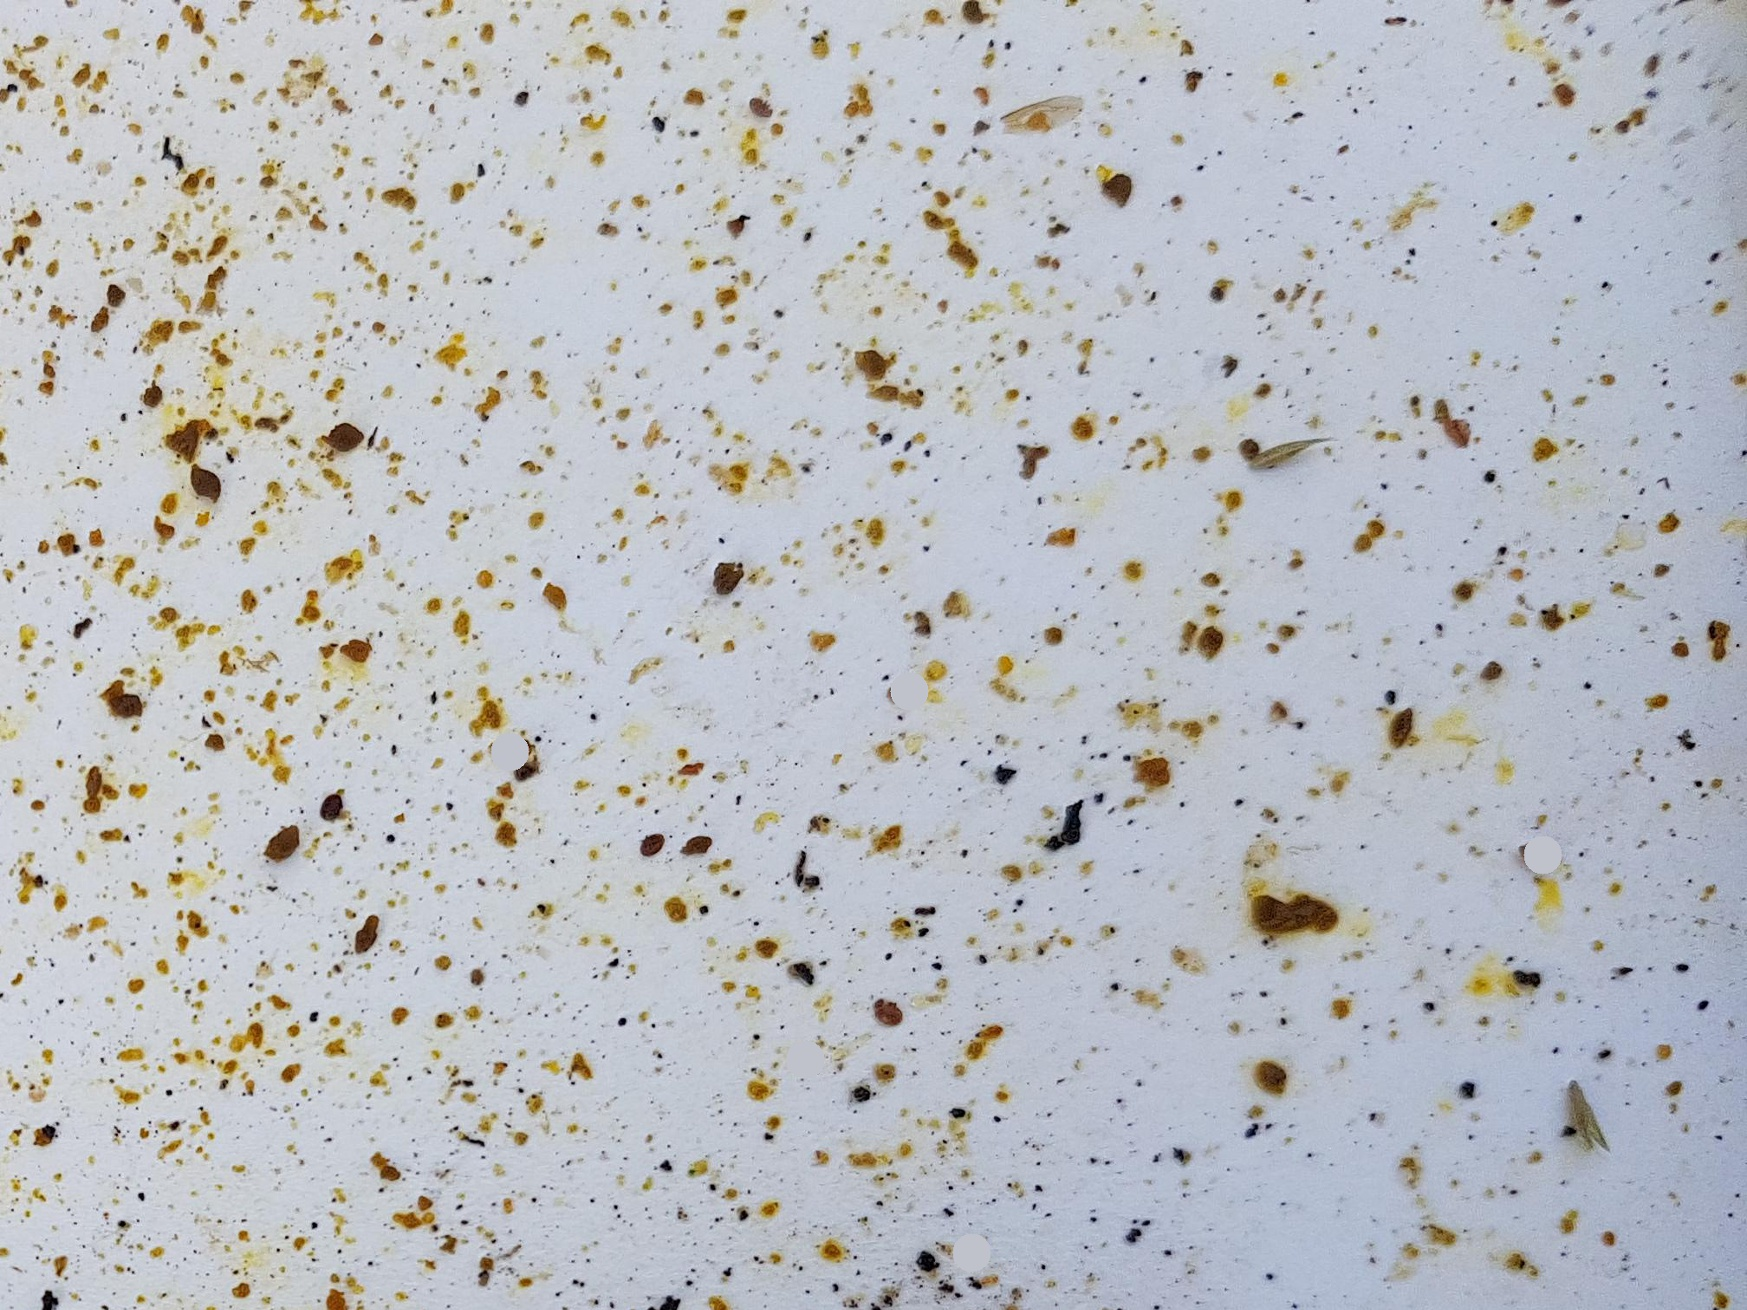Varroa: (685, 827, 719, 864), (748, 94, 784, 128), (319, 788, 352, 824), (636, 828, 671, 861), (872, 1002, 902, 1033)
